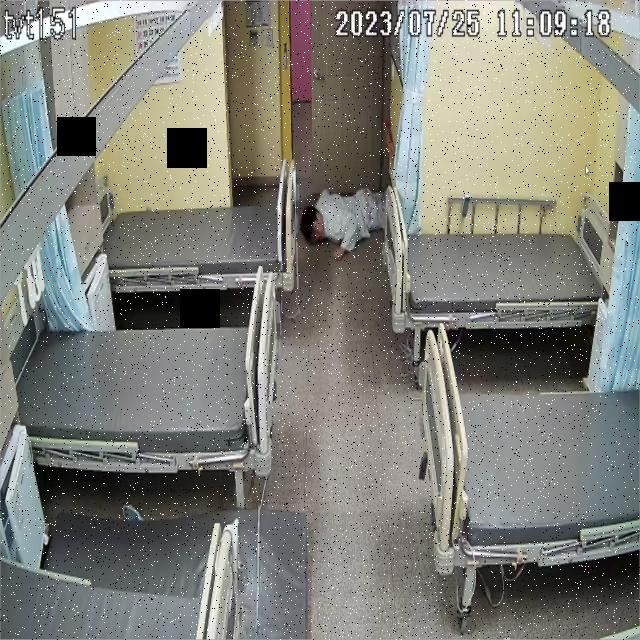bed: (420, 324, 640, 569), (14, 318, 278, 470), (382, 213, 616, 332), (105, 192, 294, 290)
fall: (304, 184, 384, 256)
patient: (302, 181, 386, 253)
